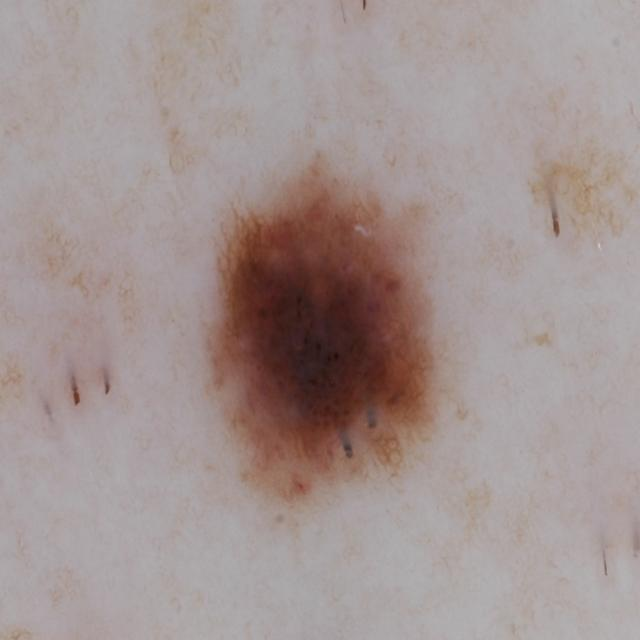Skin-Cancer Nevus: (77, 24, 578, 640)
